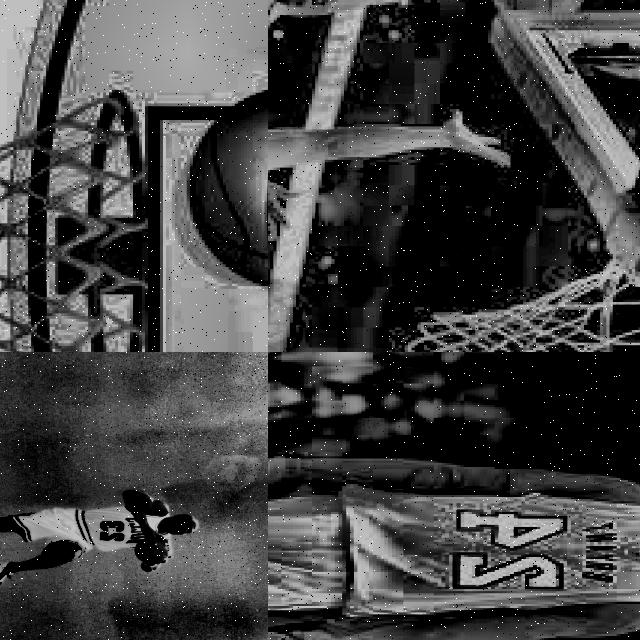Basketball: (187, 89, 268, 286), (134, 539, 171, 564)
